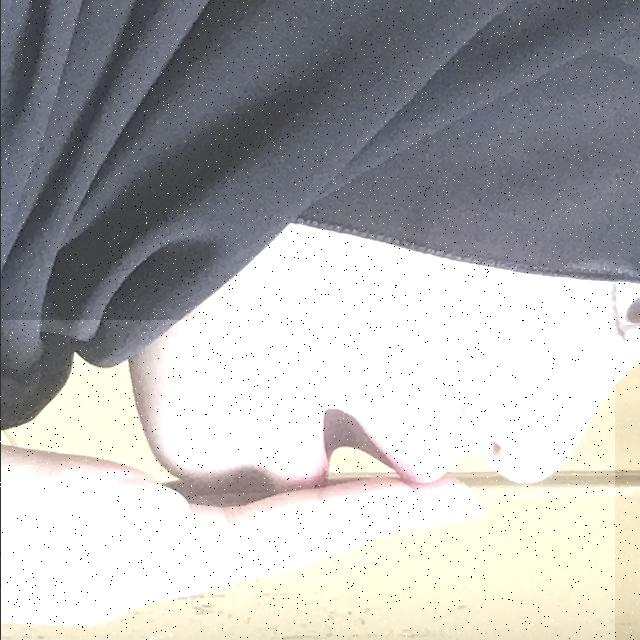ngantuk: (0, 320, 614, 640)
